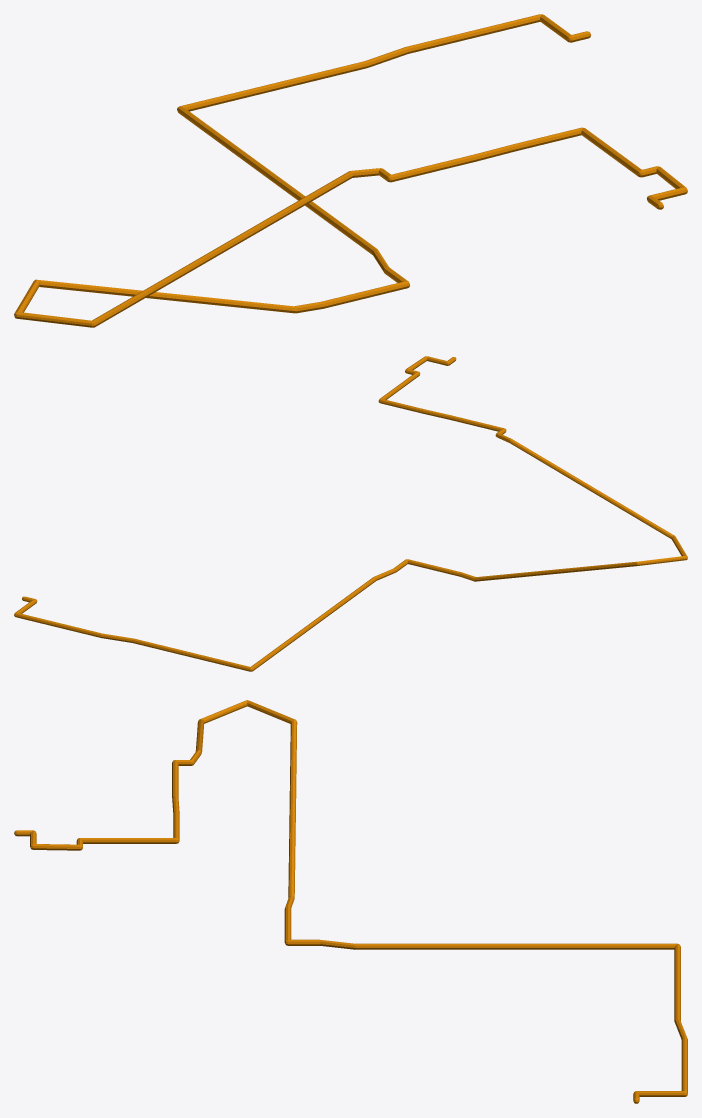
3 renders of one model, top to bottom at view 1: azimuth 30°, elevation 25°; view 2: azimuth 150°, elevation 25°; view 3: azimuth 270°, elevation 25°, orthographic. The views are drawn at different scales.
Size of the model in its own units: 2408 by 520 by 2094.
